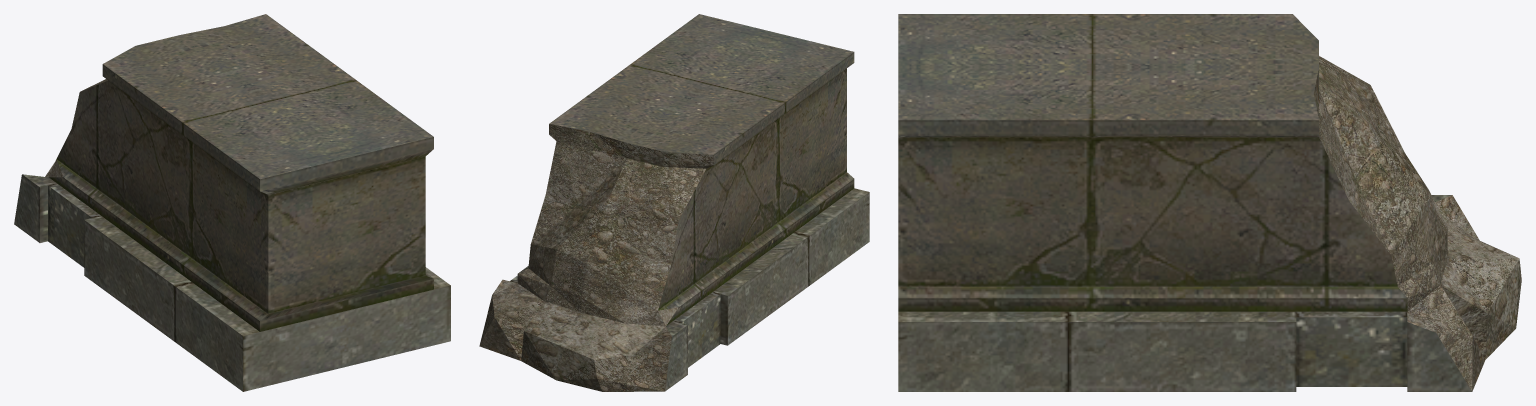
File: bg_lut_lutomb_border03a_sm_old.FBX
3 renders of one model, left to right at view 1: azimuth 30°, elevation 25°; view 2: azimuth 150°, elevation 25°; view 3: azimuth 270°, elevation 25°, orthographic. The views are drawn at different scales.
Parts seen in each view (by area): view 1: bg_lut_lutomb_border03a_sm_old; view 2: bg_lut_lutomb_border03a_sm_old; view 3: bg_lut_lutomb_border03a_sm_old.
Boxes of the visible parts, x1,y1,x2,y2 form: bg_lut_lutomb_border03a_sm_old: (14,14,450,391); bg_lut_lutomb_border03a_sm_old: (479,14,869,391); bg_lut_lutomb_border03a_sm_old: (898,14,1521,391).
Bounding box in the file's own units: 66.74 × 64 × 138.
